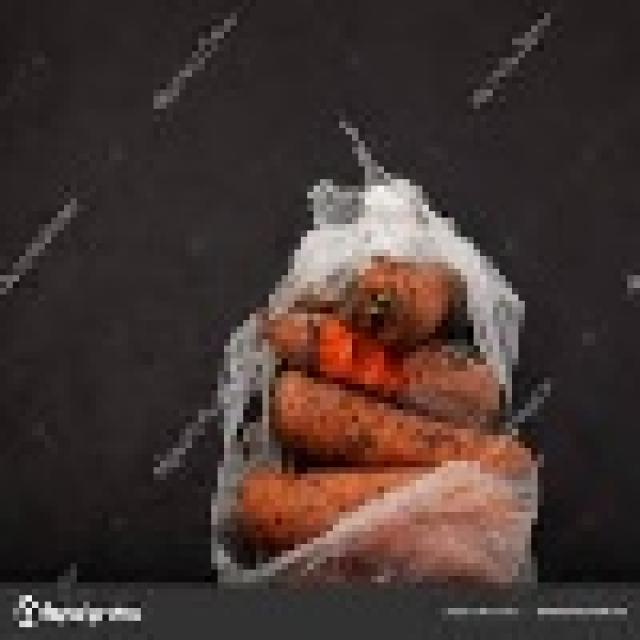Stale_Carrot: (220, 399, 500, 538), (248, 296, 454, 443), (255, 321, 424, 494), (285, 257, 459, 387)
